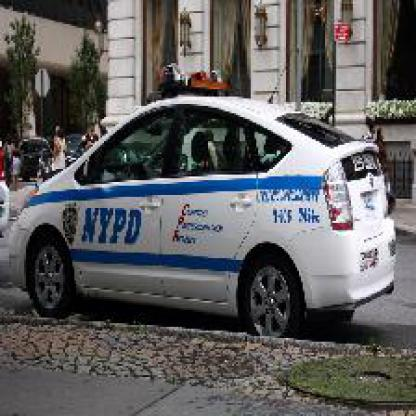emergency: (9, 93, 412, 342)
